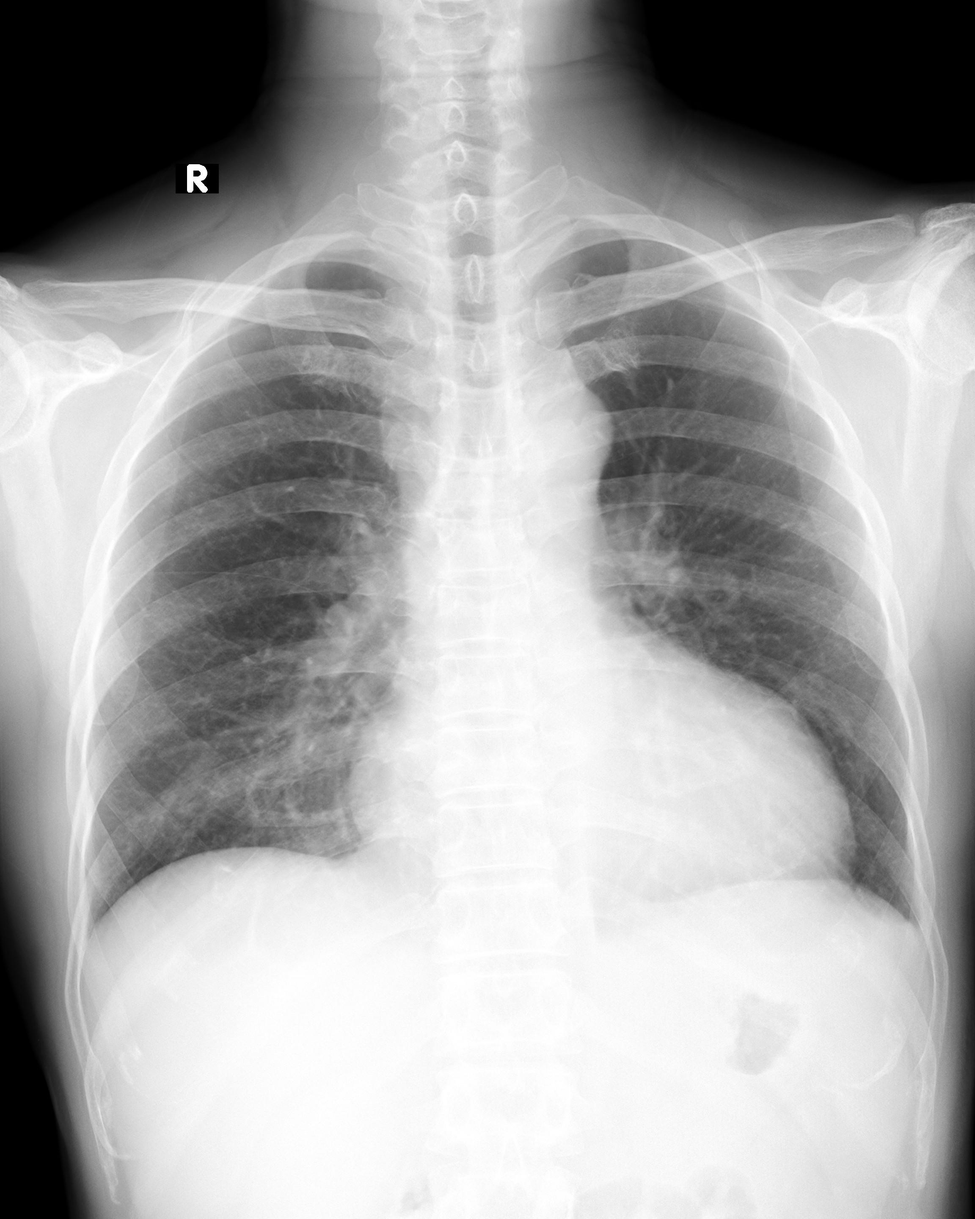Cardiomegaly: (347, 746, 852, 914)
